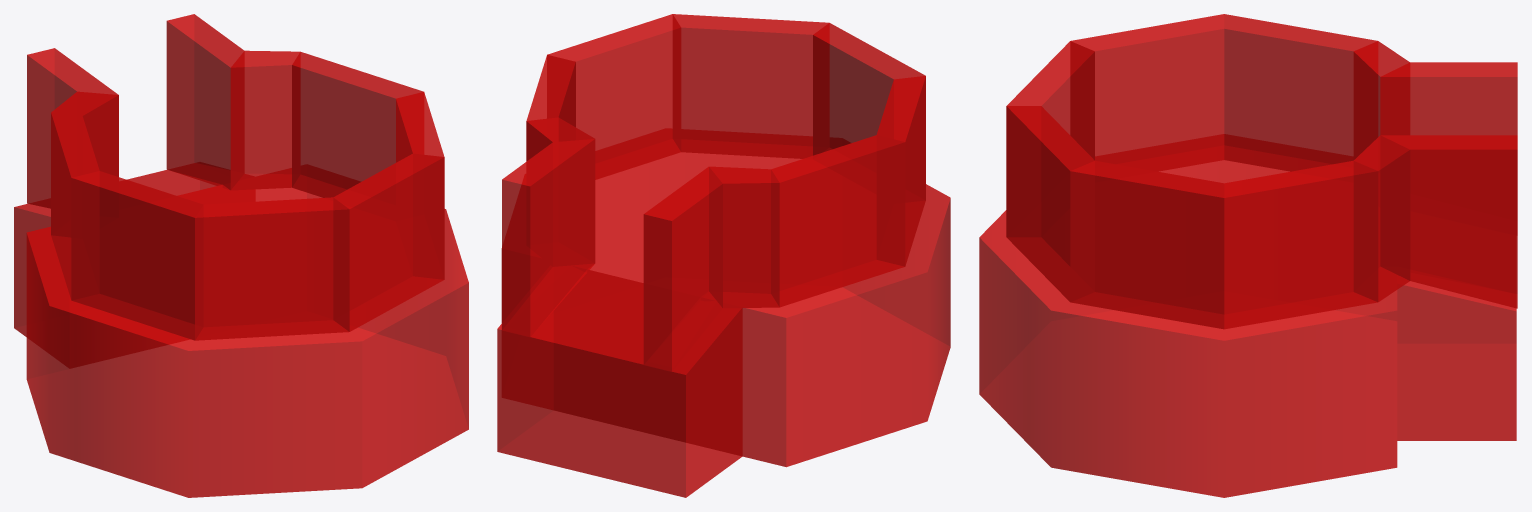
The model's file is SM_Bld_Bunker_Small_01_Collision.fbx.
3 renders of one model, left to right at view 1: azimuth 30°, elevation 25°; view 2: azimuth 150°, elevation 25°; view 3: azimuth 270°, elevation 25°, orthographic. The views are drawn at different scales.
Parts seen in each view (by area): view 1: SM_Bld_Bunker_Small_01_Collision; view 2: SM_Bld_Bunker_Small_01_Collision; view 3: SM_Bld_Bunker_Small_01_Collision.
Boxes of the visible parts, x1,y1,x2,y2 form: SM_Bld_Bunker_Small_01_Collision: [14, 14, 468, 497]; SM_Bld_Bunker_Small_01_Collision: [497, 14, 950, 497]; SM_Bld_Bunker_Small_01_Collision: [979, 14, 1517, 497].
Bounding box in the file's own units: 371 × 241 × 408.
